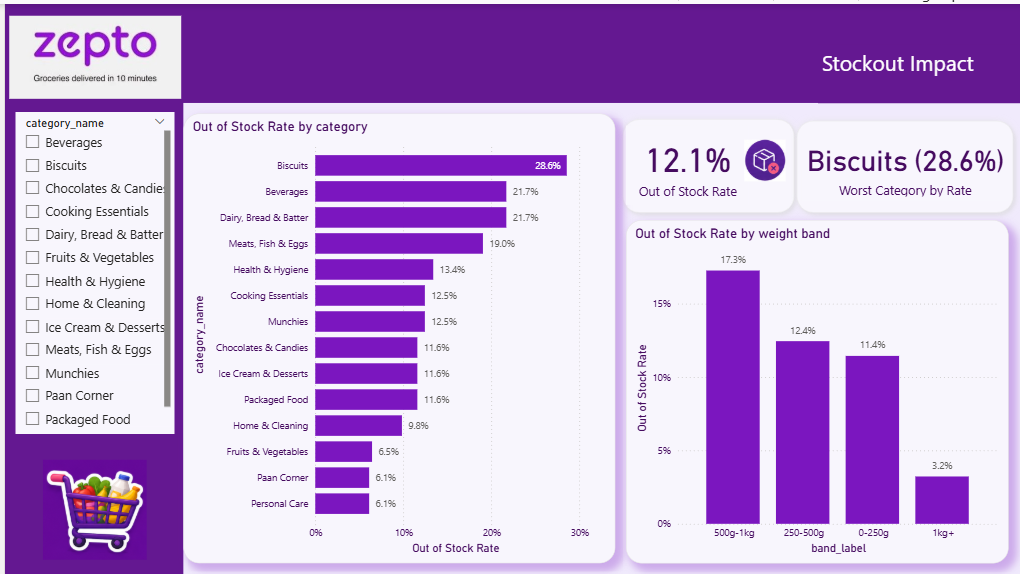

The page's visual inventory and layout, read from the dashboard file:
{"tool":"powerbi","page":{"name":"Stockout Impact","canvas":[1280,720],"ordinal":3},"visuals":[{"type":"shape","box":[0,0,1281.3,124.7],"z":0},{"type":"shape","box":[0,0,224.9,720],"z":1000},{"type":"shape","box":[769.1,136.1,234.3,136.1],"z":2000},{"type":"shape","box":[988.4,138,291,134.2],"z":3000},{"type":"barChart","title":"Out of Stock Rate by category","fields":{"Category":["Category.category_name"],"Y":["Fact_Products.Out of Stock Rate"]},"box":[224.9,138,544.3,566.9],"z":4000},{"type":"columnChart","title":"Out of Stock Rate by weight band","fields":{"Category":["Weight_Band.band_label"],"Y":["Fact_Products.Out of Stock Rate"]},"box":[782.4,272.1,481.9,432.8],"z":5000},{"type":"card","fields":{"Values":["Fact_Products.Out of Stock Rate"]},"box":[782.4,153.1,155,100.2],"z":6000},{"type":"card","fields":{"Values":["Fact_Products.Worst Category by Rate Combined"]},"box":[1003.5,162.5,260.8,85],"z":7000},{"type":"slicer","fields":{"Values":["Category.category_name"]},"box":[13.2,136.1,200.3,404.4],"z":8000},{"type":"image","box":[26.5,568.8,173.9,136.1],"z":9000},{"type":"image","box":[926,156.9,62.4,81.3],"z":10000},{"type":"image","box":[0,9.4,226.8,115.3],"z":11000},{"type":"textbox","box":[1024.3,51,255.1,73.7],"z":12000}]}

Visuals, with their boxes in screenshot pixels (x1, y1, x2, y2), scaled from the page's 1280x720 canvas onto the 1020x574 screenshot:
shape: <box>0,0,1019,99</box>
shape: <box>0,0,179,573</box>
shape: <box>613,109,800,217</box>
shape: <box>788,110,1019,217</box>
"Out of Stock Rate by category" barChart: <box>179,110,613,562</box>
"Out of Stock Rate by weight band" columnChart: <box>623,217,1007,562</box>
card - Fact_Products.Out of Stock Rate: <box>623,122,747,202</box>
card - Fact_Products.Worst Category by Rate Combined: <box>800,130,1007,197</box>
slicer - Category.category_name: <box>11,109,170,431</box>
image: <box>21,453,160,562</box>
image: <box>738,125,788,190</box>
image: <box>0,7,181,99</box>
textbox: <box>816,41,1019,99</box>
